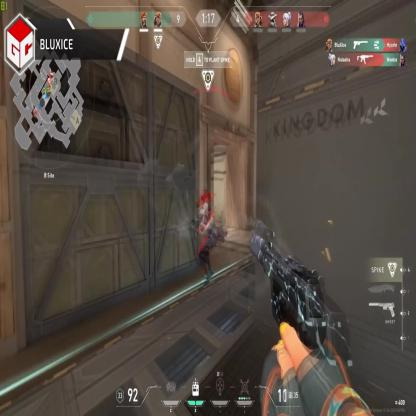enemy: (197, 201, 215, 280)
enemy_head: (201, 200, 209, 220)
